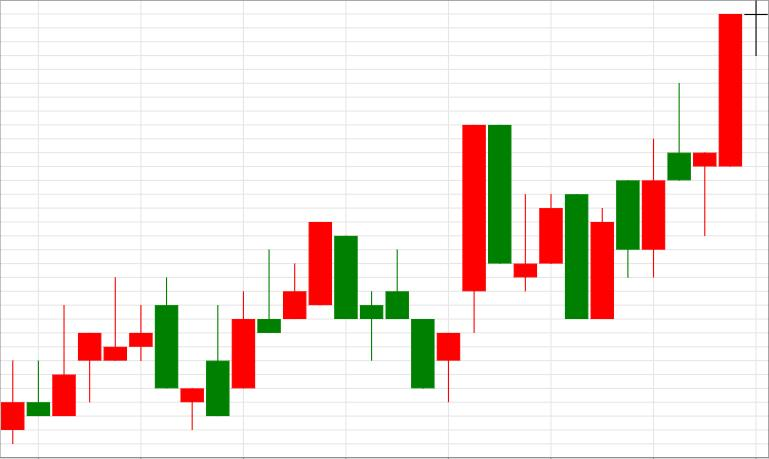shooting_star_fall: (565, 83, 690, 320)
